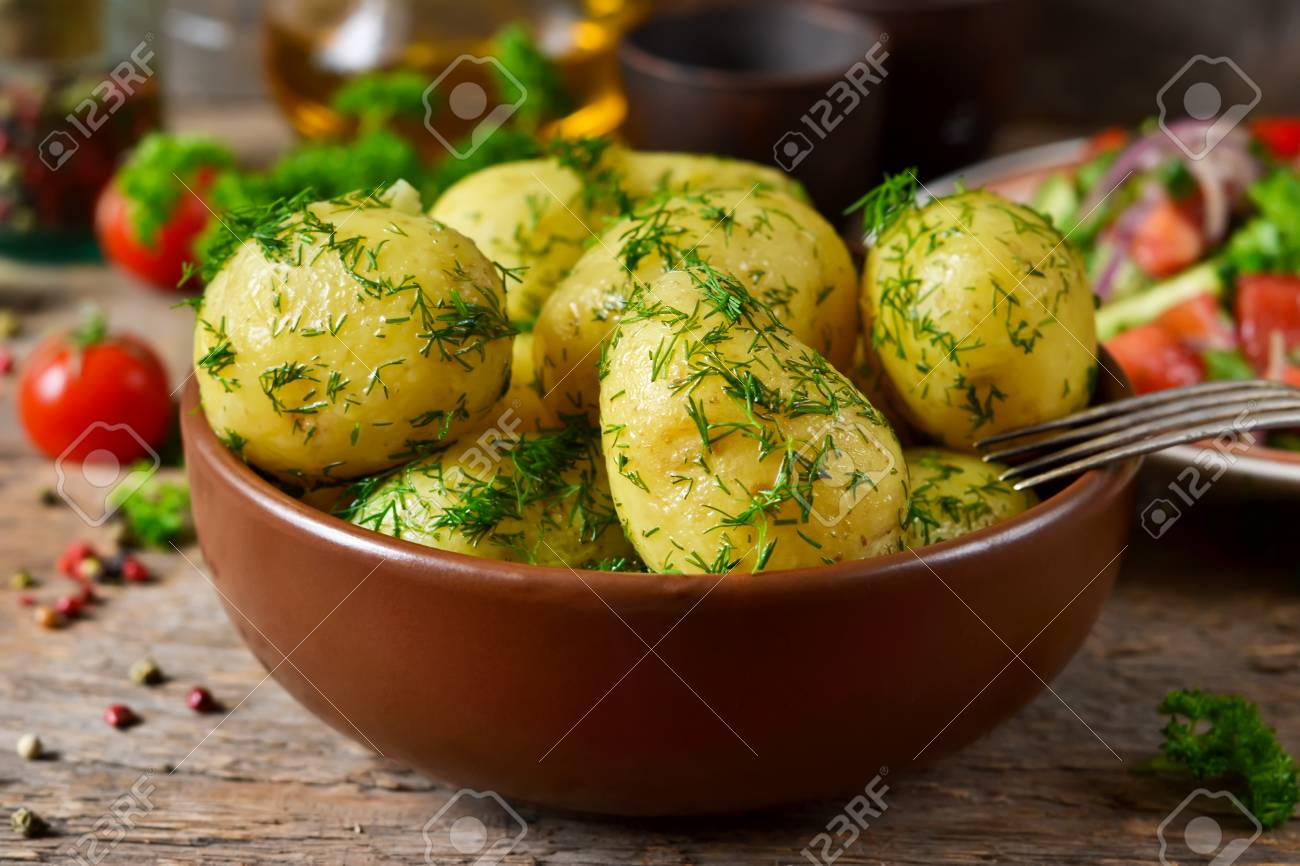boiled potatoes: (184, 195, 513, 444), (601, 294, 910, 553), (549, 197, 851, 402), (858, 195, 1091, 419), (366, 454, 619, 569), (891, 446, 1020, 535)
